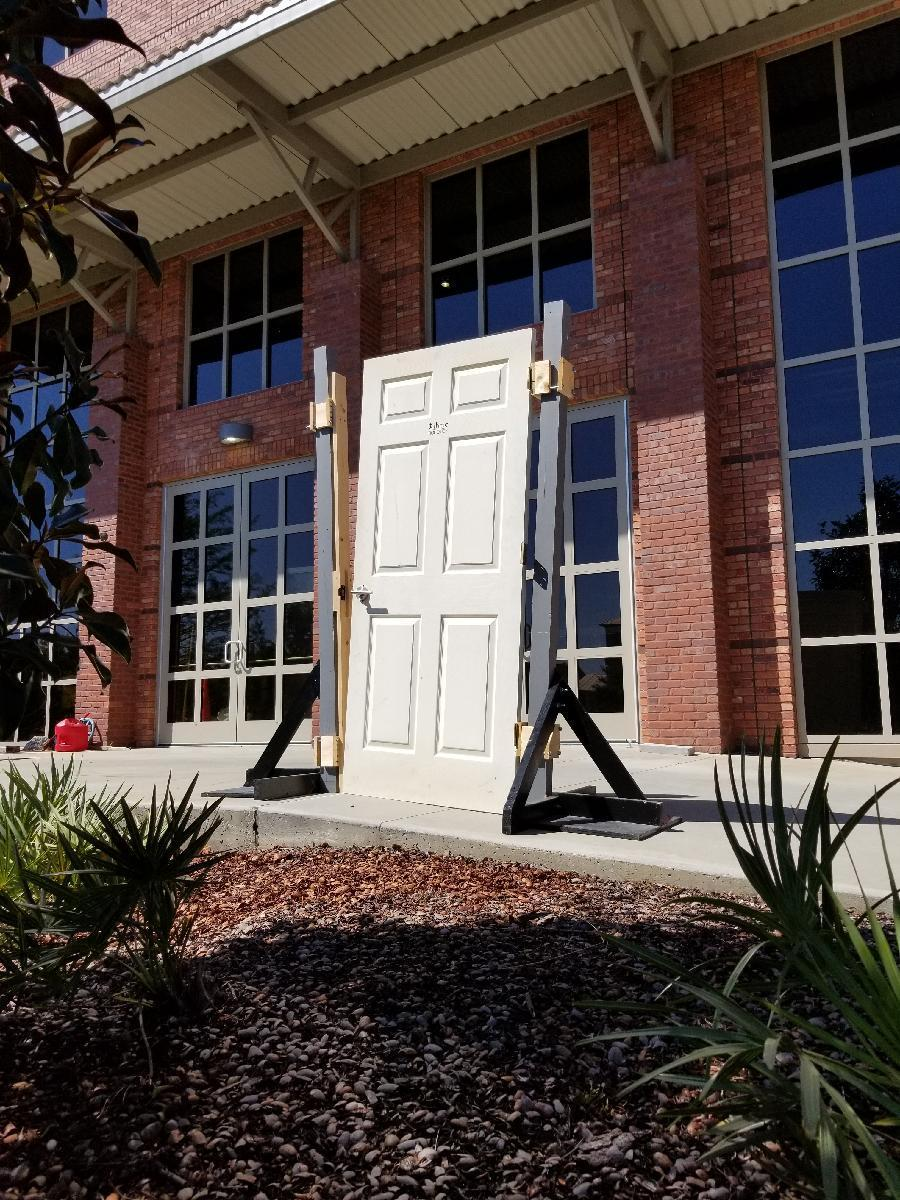door: (360, 353, 522, 811)
handle: (350, 584, 375, 602)
